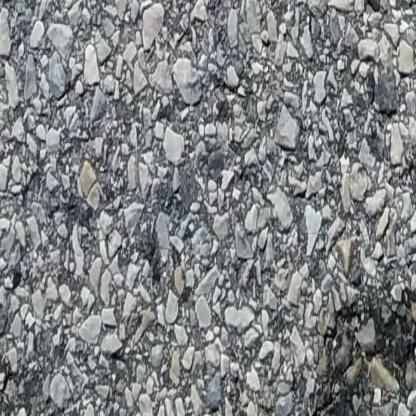Cracks: (305, 295, 416, 416)
